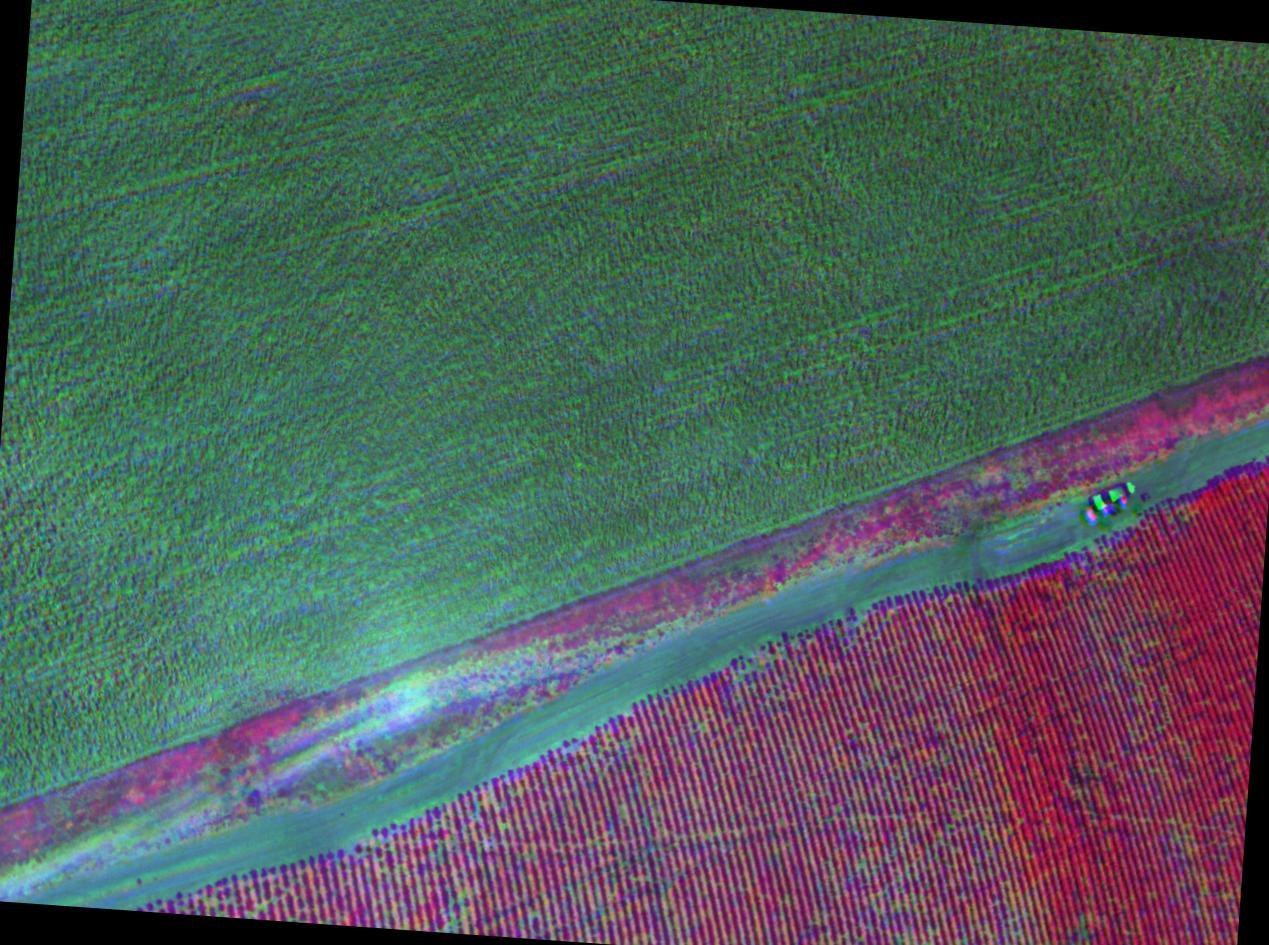dc: (471, 784, 547, 858), (841, 856, 920, 927), (336, 831, 411, 891), (1097, 607, 1159, 665), (425, 885, 482, 941), (738, 645, 789, 684)
